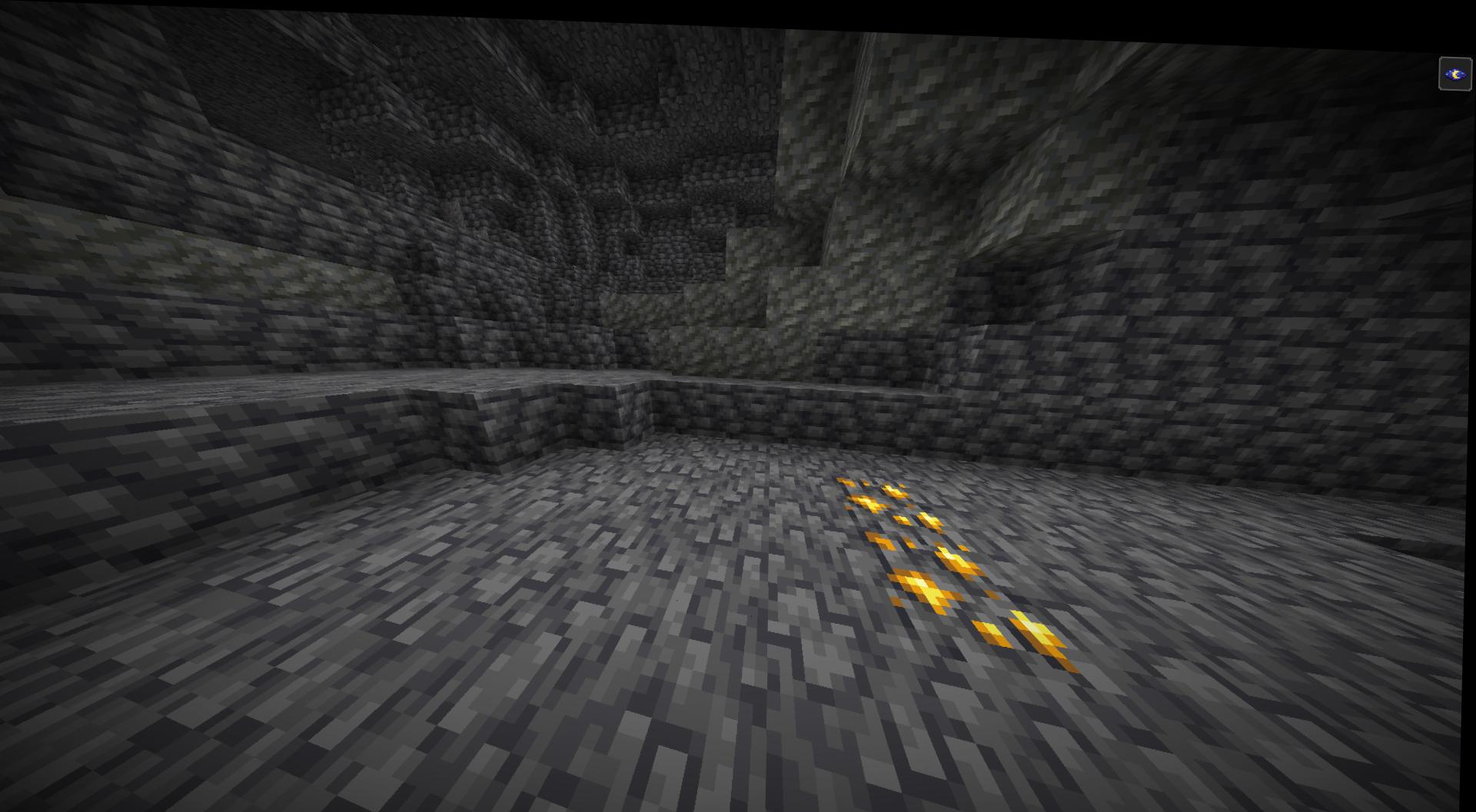gold ore: (872, 523, 1046, 647), (836, 464, 952, 524)
